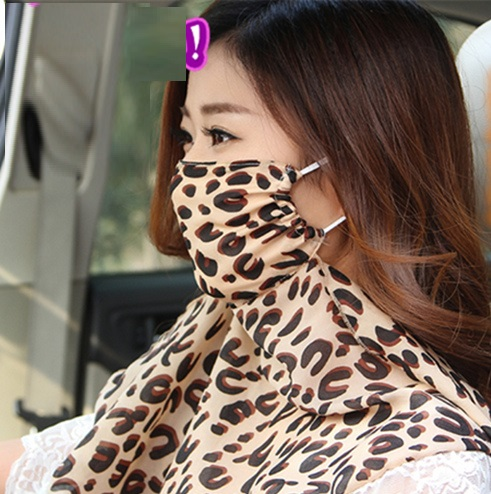face_mask: (171, 39, 329, 284)
